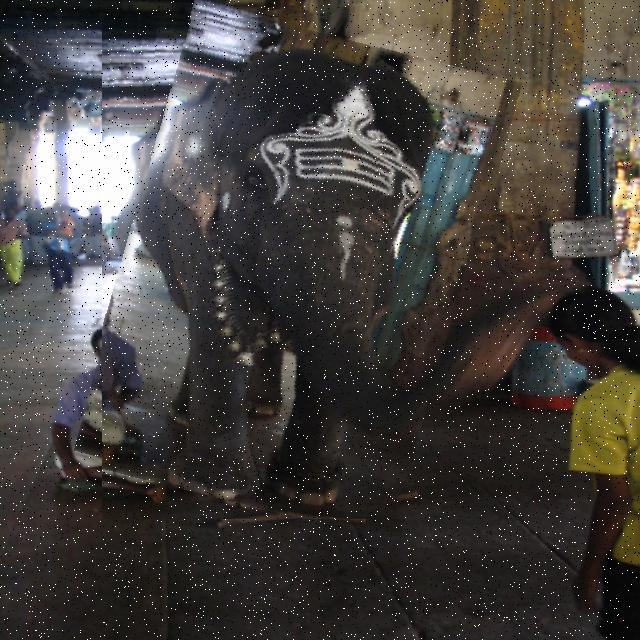elephant: (102, 12, 494, 519)
